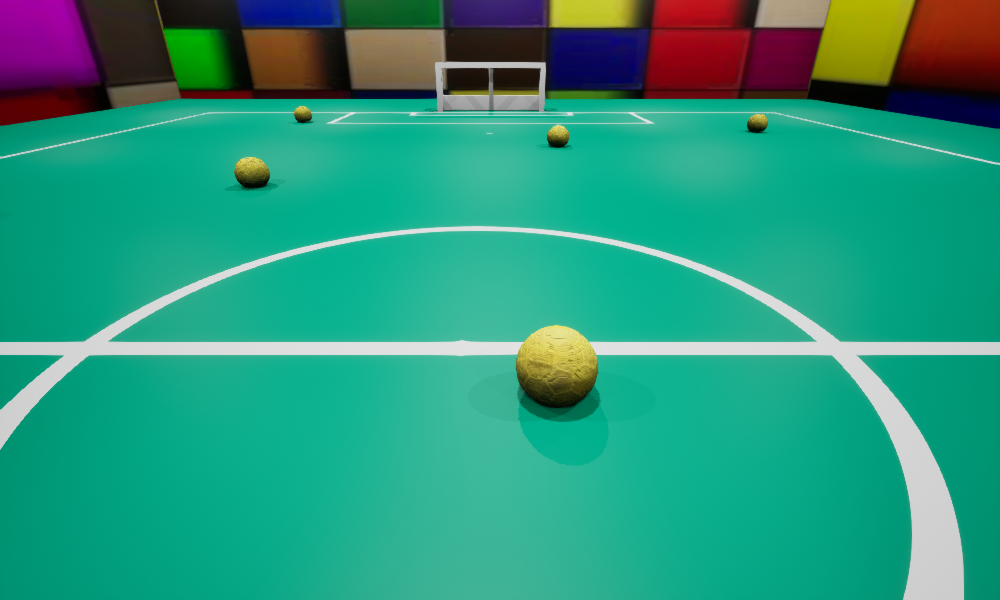b: (516, 325, 597, 406), (234, 157, 269, 187), (547, 125, 568, 146), (747, 114, 767, 131), (294, 106, 311, 122)
g: (435, 62, 545, 111)
